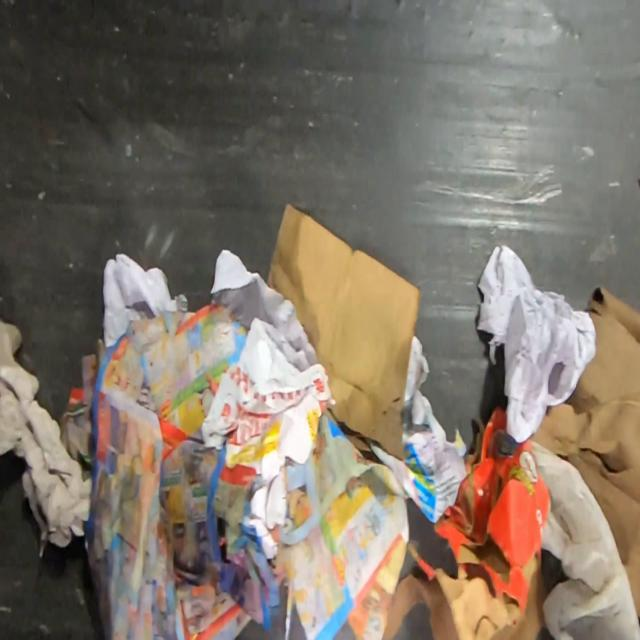cardboard: (264, 199, 424, 460), (382, 405, 552, 639), (530, 285, 639, 623)
soft_plastic: (102, 252, 189, 348)
